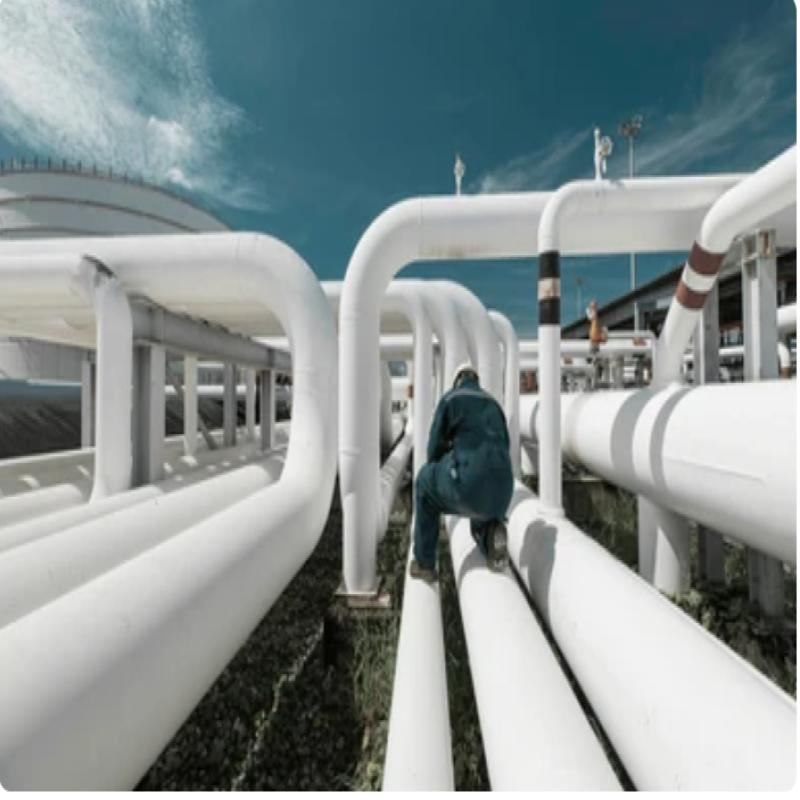Healthy: (0, 233, 325, 794), (538, 202, 800, 552), (336, 238, 395, 594)
